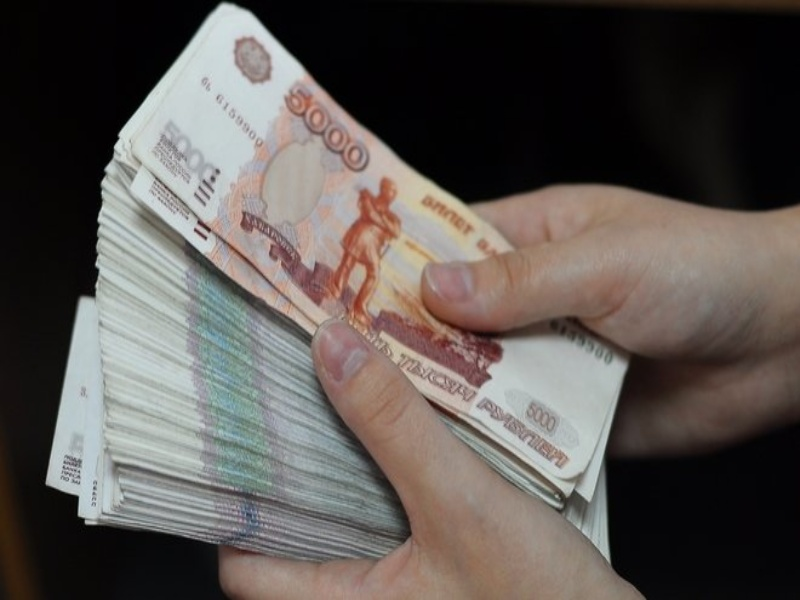cash: (45, 3, 628, 567)
